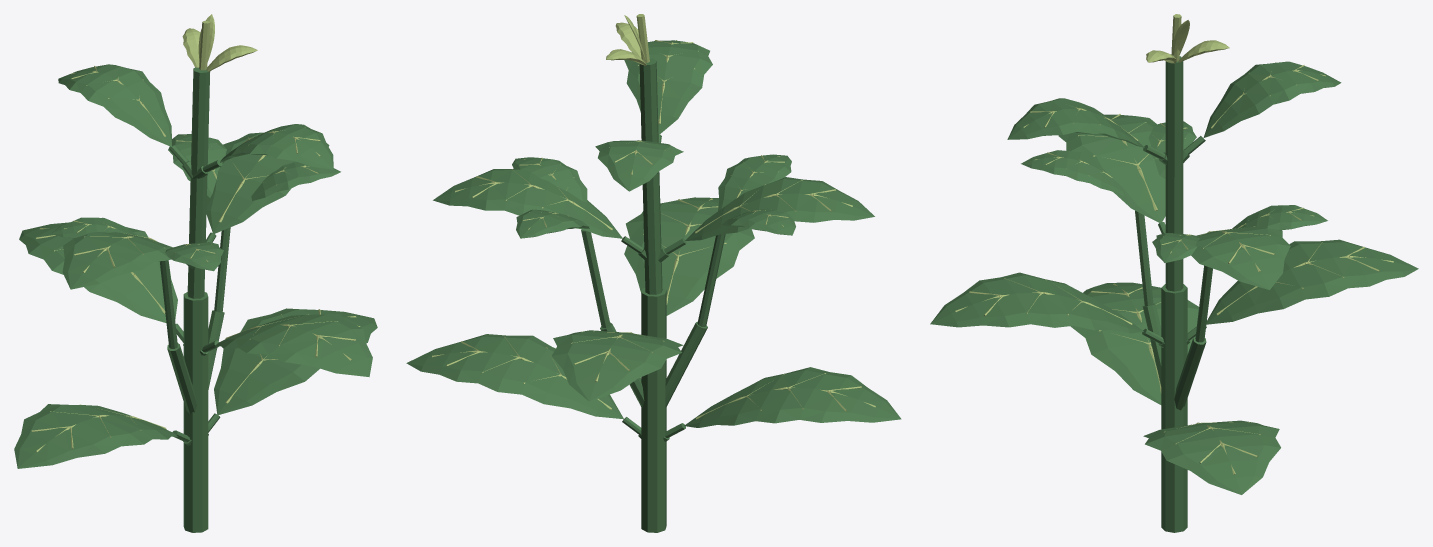
File: SM_Mint.fbx
3 renders of one model, left to right at view 1: azimuth 30°, elevation 25°; view 2: azimuth 150°, elevation 25°; view 3: azimuth 270°, elevation 25°, orthographic. The views are drawn at different scales.
Parts seen in each view (by area): view 1: FoliageRoot, ReadyAccents; view 2: FoliageRoot, ReadyAccents; view 3: FoliageRoot, ReadyAccents.
Part boxes in pixels (x1=…): FoliageRoot: x1=14, y1=64, x2=377, y2=532; ReadyAccents: x1=182, y1=14, x2=257, y2=71; FoliageRoot: x1=406, y1=40, x2=901, y2=532; ReadyAccents: x1=606, y1=14, x2=649, y2=65; FoliageRoot: x1=930, y1=56, x2=1418, y2=532; ReadyAccents: x1=1146, y1=14, x2=1229, y2=63.
Bounding box in the file's own units: 0.8069 × 0.92 × 0.7853.
